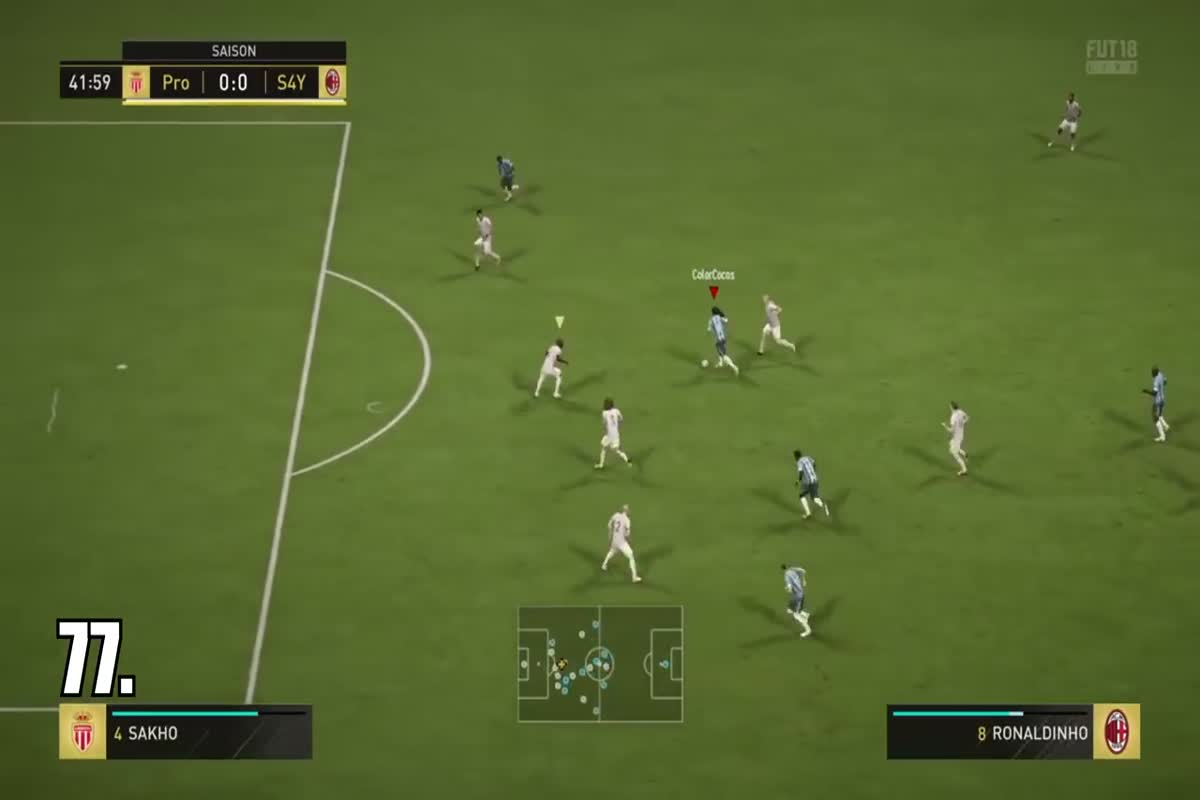ball: (695, 353, 716, 371)
